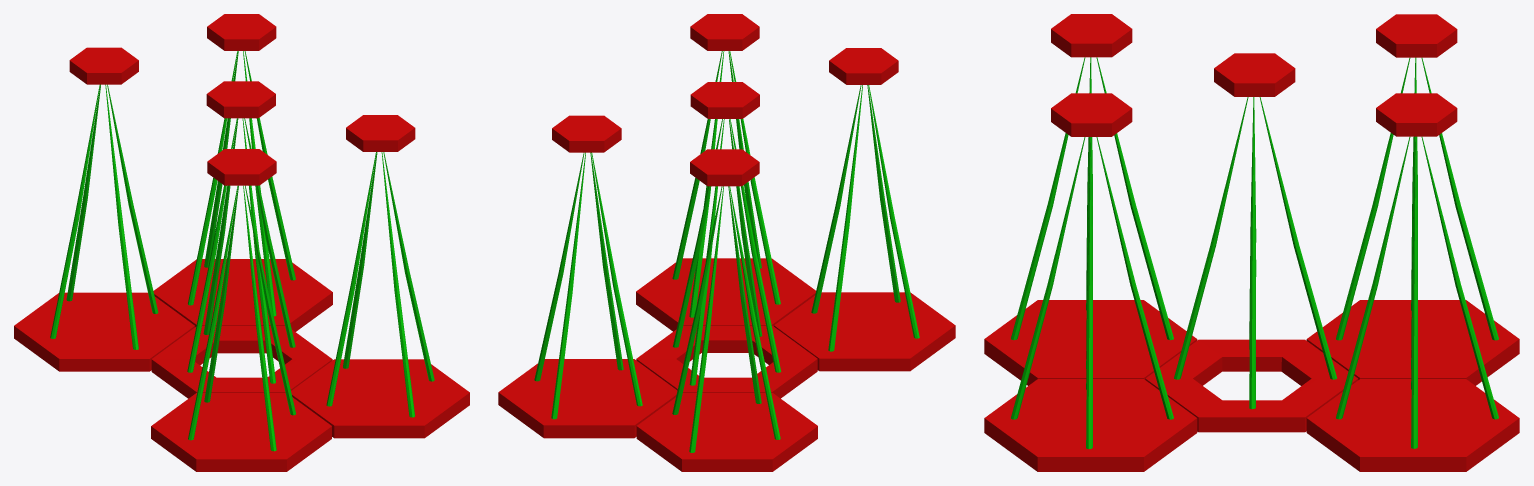
Rendered from HangingFuturelamp.fbx.
3 renders of one model, left to right at view 1: azimuth 30°, elevation 25°; view 2: azimuth 150°, elevation 25°; view 3: azimuth 270°, elevation 25°, orthographic. The views are drawn at different scales.
Parts seen in each view (by area): view 1: Cylinder.006; view 2: Cylinder.006; view 3: Cylinder.006.
Part boxes in pixels (x1=…): Cylinder.006: x1=14, y1=14, x2=469, y2=471; Cylinder.006: x1=498, y1=14, x2=955, y2=471; Cylinder.006: x1=984, y1=14, x2=1519, y2=471.
Bounding box in the file's own units: 165 × 238 × 160.
